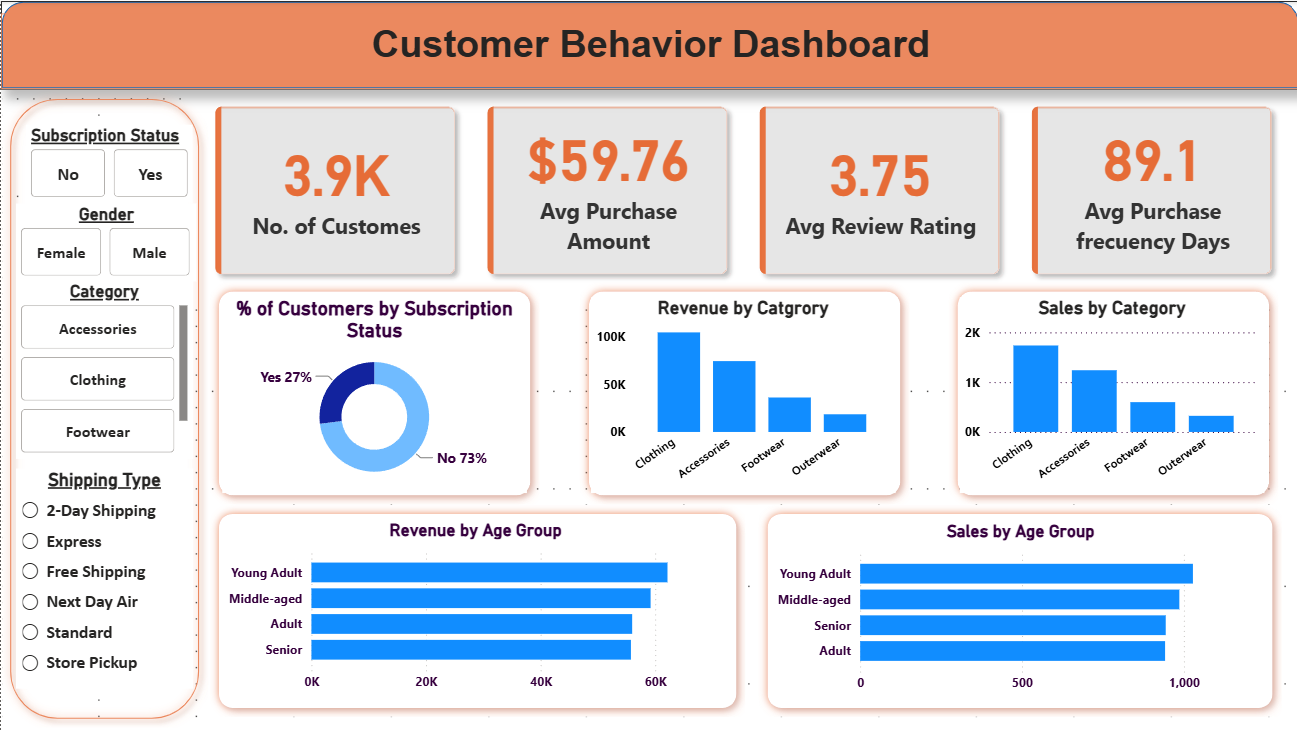

The dashboard page shown, as its layout file describes it:
{"tool":"powerbi","page":{"name":"Page 1","canvas":[1280,720],"ordinal":0},"visuals":[{"type":"textbox","box":[0,0,1280.3,87.3],"z":0},{"type":"cardVisual","fields":{"Data":["public customer_shopping.No. of Customes","public customer_shopping.Avg Purchase Amount","public customer_shopping.Avg Review Rating","public customer_shopping.Avg Purchase frecuency Days"]},"box":[181.6,74.7,1098.6,224],"z":1000},{"type":"shape","box":[0,0,1280.3,87.1],"z":2000},{"type":"textbox","box":[0,12.4,1280.3,74.7],"z":3000},{"type":"shape","box":[205.3,277.5,324.7,219],"z":4000},{"type":"donutChart","title":"% of Customers by Subscription Status","fields":{"Category":["public customer_shopping.subscription_status"],"Y":["CountNonNull(public customer_shopping.customer_id)"]},"box":[217.7,291.1,299.8,192.8],"z":5000},{"type":"shape","box":[569.8,277.5,324.7,219],"z":6000},{"type":"shape","box":[933.1,277.5,324.7,219],"z":7000},{"type":"clusteredColumnChart","title":"Revenue by Catgrory","fields":{"Y":["Sum(public customer_shopping.purchase_amount)"],"Category":["public customer_shopping.category"]},"box":[581,291.1,299.8,192.8],"z":8000},{"type":"clusteredColumnChart","title":"Sales by Category","fields":{"Y":["CountNonNull(public customer_shopping.customer_id)"],"Category":["public customer_shopping.category"]},"box":[944.3,291.1,299.8,192.8],"z":9000},{"type":"shape","box":[0,87.1,204,628.3],"z":10000},{"type":"advancedSlicerVisual","title":"Subscription Status","fields":{"Values":["public customer_shopping.subscription_status"]},"box":[24.9,121.9,164.2,77.1],"z":11000},{"type":"advancedSlicerVisual","title":"Gender","fields":{"Values":["public customer_shopping.gender"]},"box":[14.9,199.1,177.9,77.1],"z":12000},{"type":"advancedSlicerVisual","title":"Category","fields":{"Values":["public customer_shopping.category"]},"box":[14.9,276.2,174.2,175.4],"z":13000},{"type":"listSlicer","title":"Shipping Type","fields":{"Values":["public customer_shopping.shipping_type"]},"box":[14.9,460.3,174.2,216.5],"z":14000},{"type":"shape","box":[205.3,496.4,527.5,209],"z":15000},{"type":"clusteredBarChart","title":"Revenue by Age Group","fields":{"Y":["Sum(public customer_shopping.purchase_amount)"],"Category":["public customer_shopping.age_group"]},"box":[217.7,511.4,498.9,177.9],"z":16000},{"type":"shape","box":[745.3,496.4,515.1,209],"z":17000},{"type":"clusteredBarChart","title":"Sales by Age Group","fields":{"Y":["CountNonNull(public customer_shopping.customer_id)"],"Category":["public customer_shopping.age_group"]},"box":[757.7,512.6,491.4,177.9],"z":18000}]}

Visuals, with their boxes in screenshot pixels (x1, y1, x2, y2), scaled from the page's 1280x720 canvas onto the 1297x731 screenshot:
textbox: detection(0, 0, 1296, 89)
cardVisual - public customer_shopping.No. of Customes x public customer_shopping.Avg Purchase Amount: detection(184, 76, 1296, 303)
shape: detection(0, 0, 1296, 88)
textbox: detection(0, 13, 1296, 88)
shape: detection(208, 282, 537, 504)
"% of Customers by Subscription Status" donutChart: detection(221, 296, 524, 491)
shape: detection(577, 282, 906, 504)
shape: detection(945, 282, 1275, 504)
"Revenue by Catgrory" clusteredColumnChart: detection(589, 296, 892, 491)
"Sales by Category" clusteredColumnChart: detection(957, 296, 1261, 491)
shape: detection(0, 88, 207, 726)
"Subscription Status" advancedSlicerVisual: detection(25, 124, 192, 202)
"Gender" advancedSlicerVisual: detection(15, 202, 195, 280)
"Category" advancedSlicerVisual: detection(15, 280, 192, 458)
"Shipping Type" listSlicer: detection(15, 467, 192, 687)
shape: detection(208, 504, 743, 716)
"Revenue by Age Group" clusteredBarChart: detection(221, 519, 726, 700)
shape: detection(755, 504, 1277, 716)
"Sales by Age Group" clusteredBarChart: detection(768, 520, 1266, 701)
